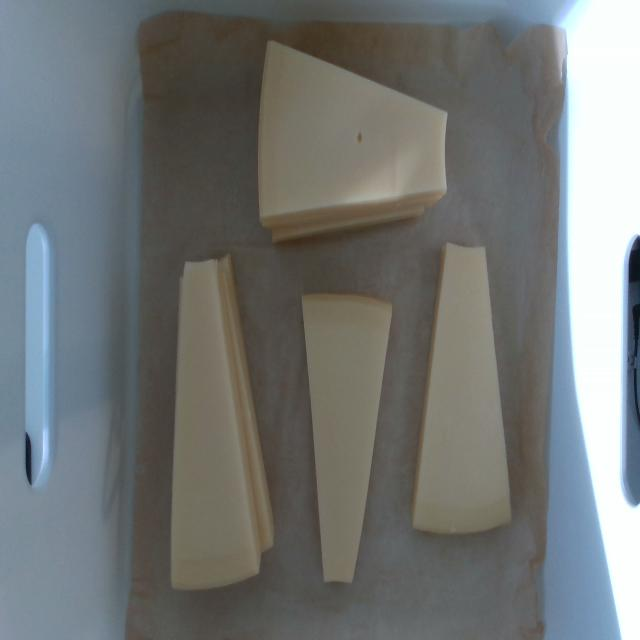Cheese: (258, 39, 448, 219), (171, 260, 259, 590), (413, 244, 510, 532), (304, 296, 392, 580)
